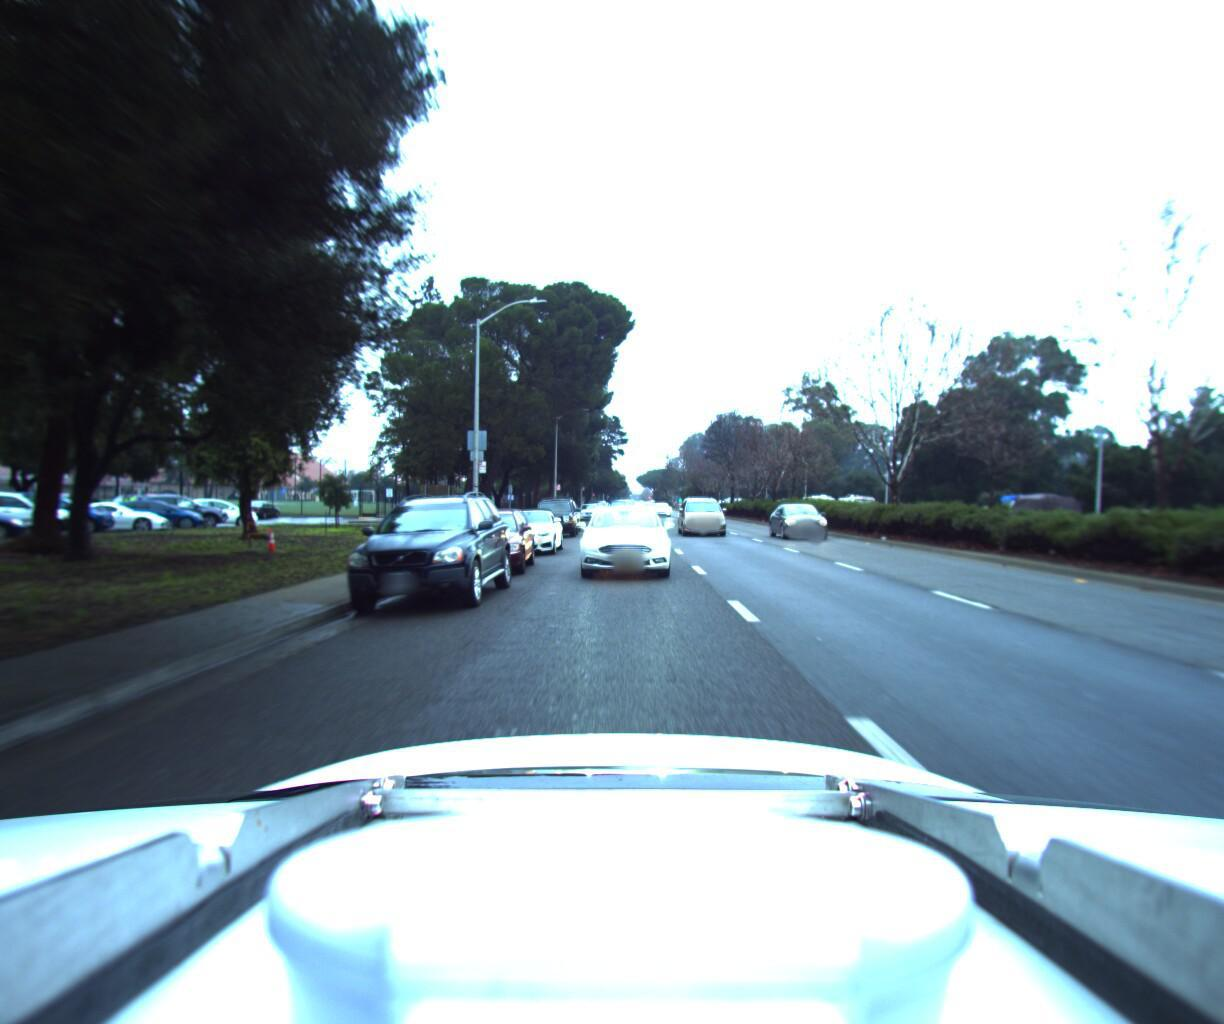car: (328, 476, 516, 619), (429, 498, 537, 578), (571, 496, 666, 581), (490, 500, 563, 555), (769, 496, 839, 535), (673, 488, 734, 532), (530, 485, 576, 535), (576, 494, 599, 515)
other_vehicle: (993, 484, 1079, 528)
